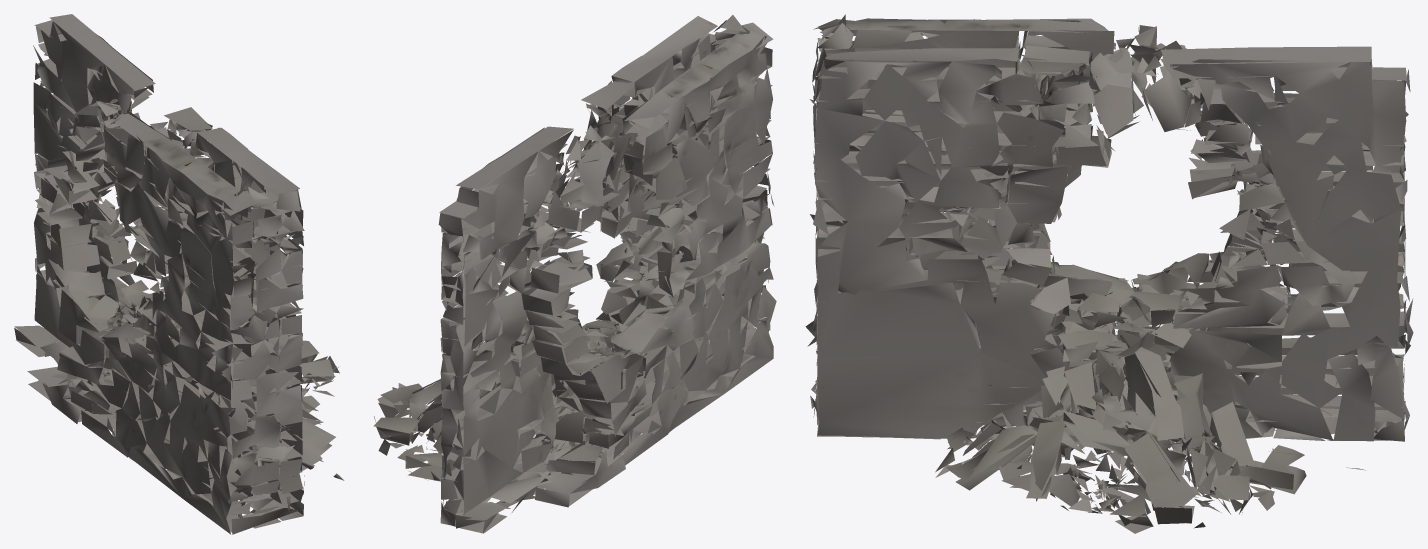
File: BrokenWallHole.glb
The picture shows the model from 3 angles, left to right: view 1: azimuth 30°, elevation 25°; view 2: azimuth 150°, elevation 25°; view 3: azimuth 270°, elevation 25°; orthographic projection. The views are drawn at different scales.
Parts seen in each view (by area): view 1: Brokenwallhole; view 2: Brokenwallhole; view 3: Brokenwallhole.
Part boxes in pixels (x1=…): Brokenwallhole: x1=14, y1=14, x2=344, y2=534; Brokenwallhole: x1=373, y1=15, x2=776, y2=533; Brokenwallhole: x1=805, y1=14, x2=1413, y2=533.
Size of the model in its own units: 11.51 by 15.16 by 20.44.
Materials: 1 (1 with a texture image).
